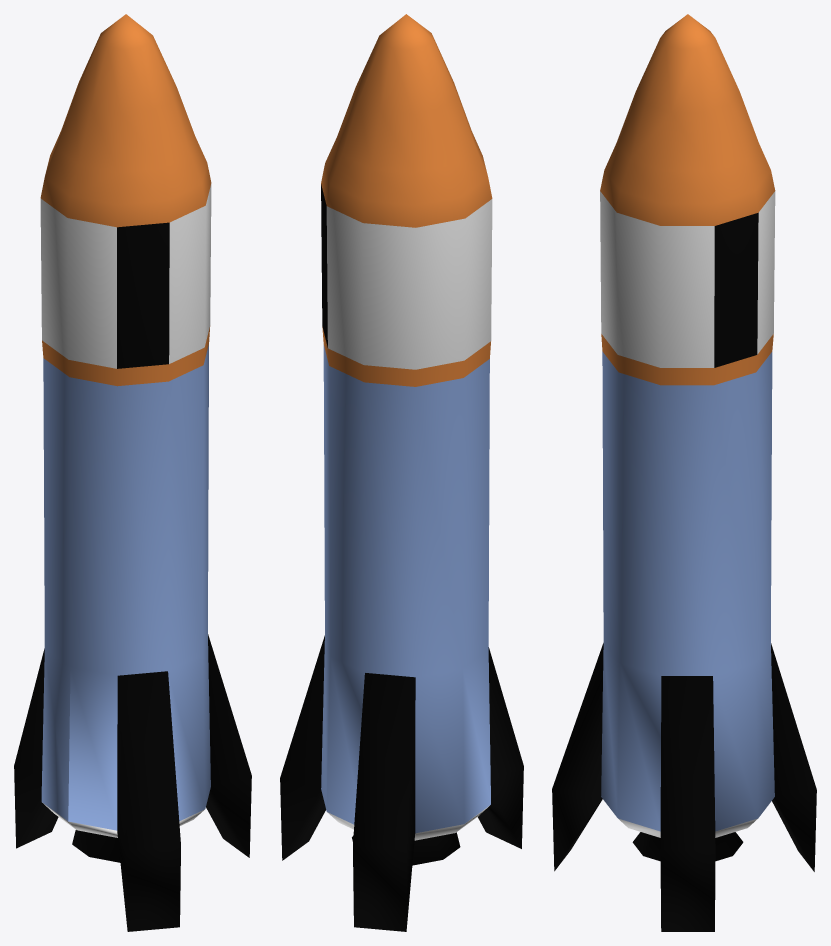
The model's file is rocket.glb.
3 views of the same model, side by side, from view 1: azimuth 30°, elevation 25°; view 2: azimuth 150°, elevation 25°; view 3: azimuth 270°, elevation 25° (orthographic).
Visible parts, largest first — view 1: Cone; view 2: Cone; view 3: Cone.
Boxes of the visible parts, <box> form: Cone: <box>14,14,251,931</box>; Cone: <box>280,14,523,931</box>; Cone: <box>552,14,816,931</box>.
Bounding box in the file's own units: 0.1636 × 0.7305 × 0.2029.
